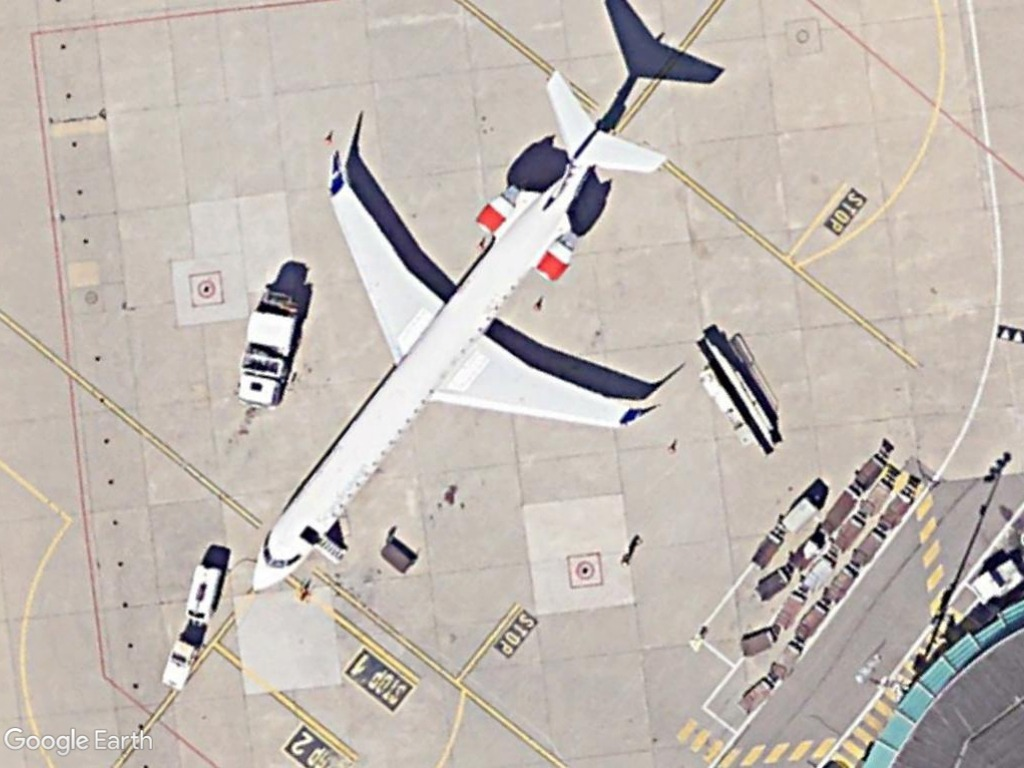chartered: (246, 65, 673, 599)
